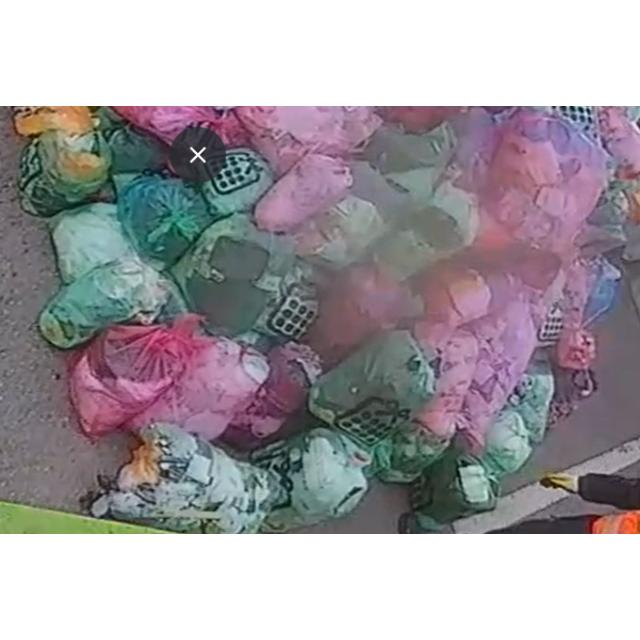general_trashbag: (91, 424, 288, 534), (39, 205, 186, 348), (172, 214, 319, 340), (309, 331, 435, 445), (251, 428, 371, 533), (119, 175, 215, 267), (18, 131, 111, 217), (200, 148, 272, 216)
other_trashbag: (456, 271, 542, 450), (70, 326, 196, 436), (160, 337, 270, 441), (231, 342, 321, 438), (419, 330, 479, 437)
